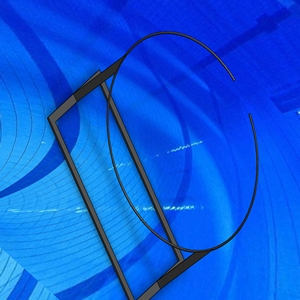circle: (47, 30, 260, 299)
